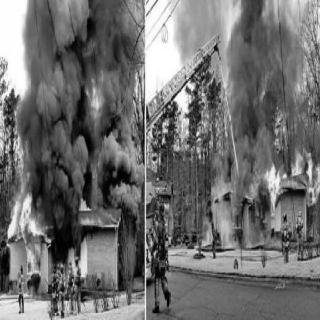Fire: (215, 120, 318, 240)
